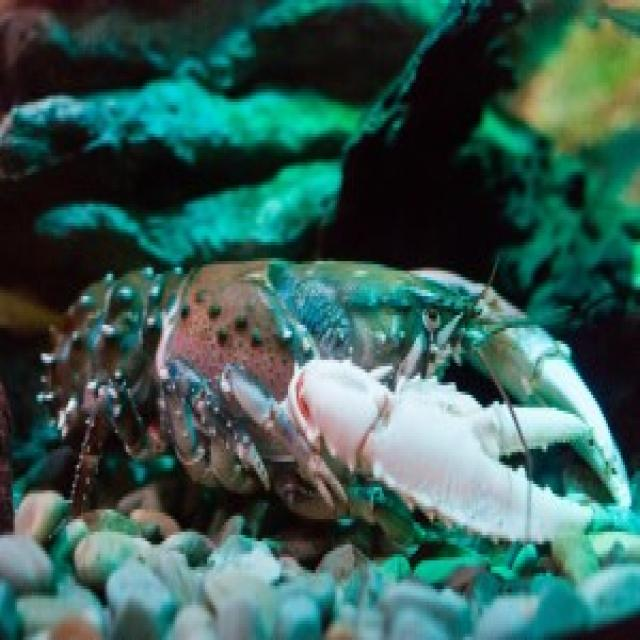lobsters: (26, 146, 623, 640)
